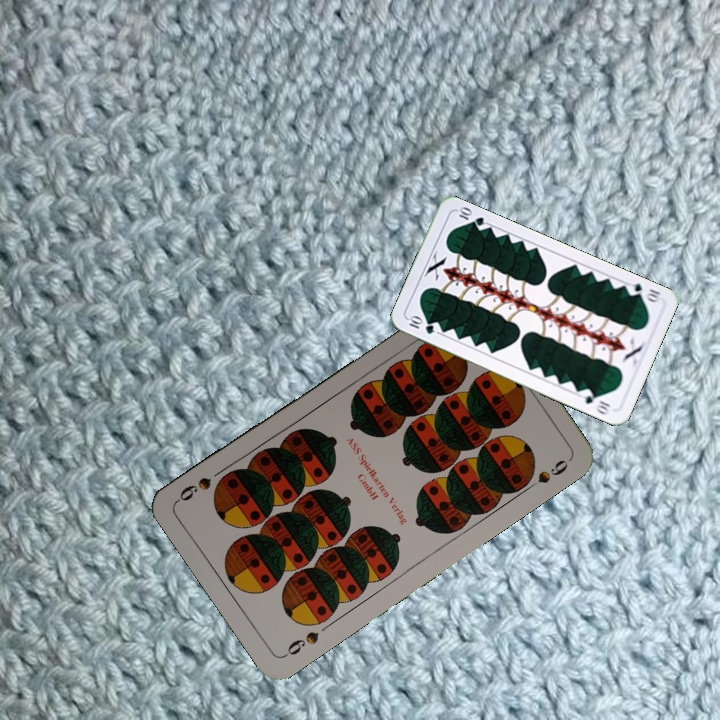G10: (622, 279, 663, 305), (404, 312, 437, 337)
S9: (279, 627, 322, 660)
